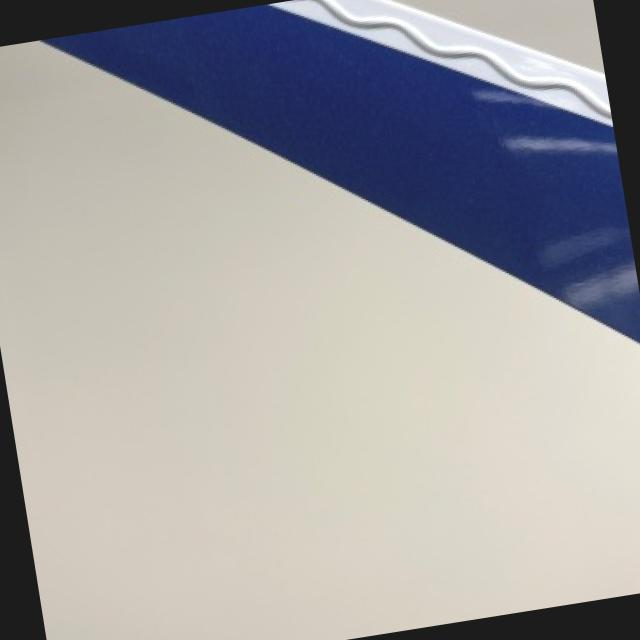healthy: (0, 41, 640, 640), (42, 0, 640, 341)
